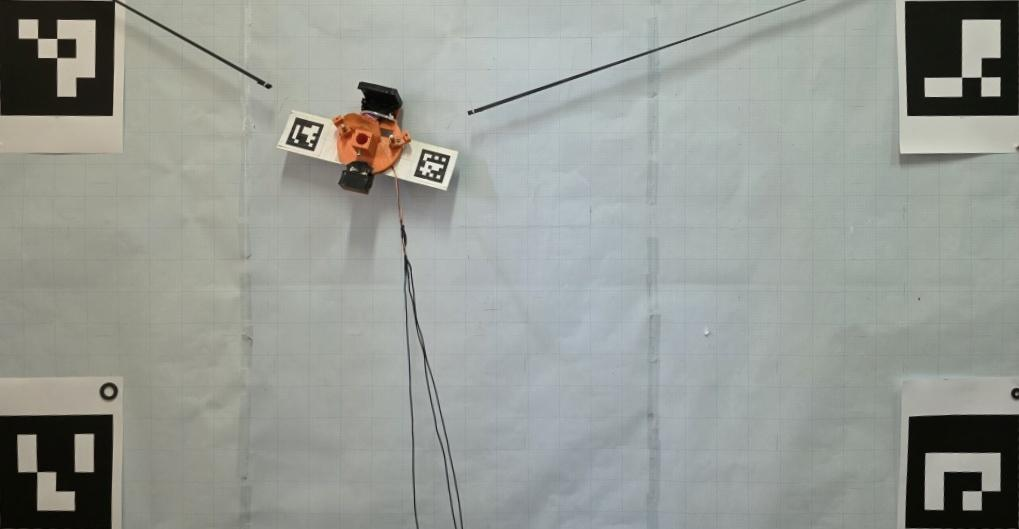robot: (332, 81, 411, 196)
